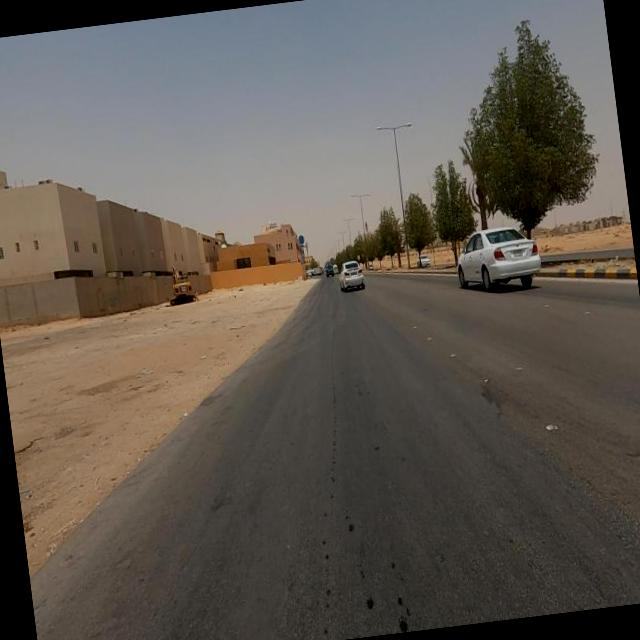debris: (216, 266, 262, 312), (217, 306, 255, 354)
